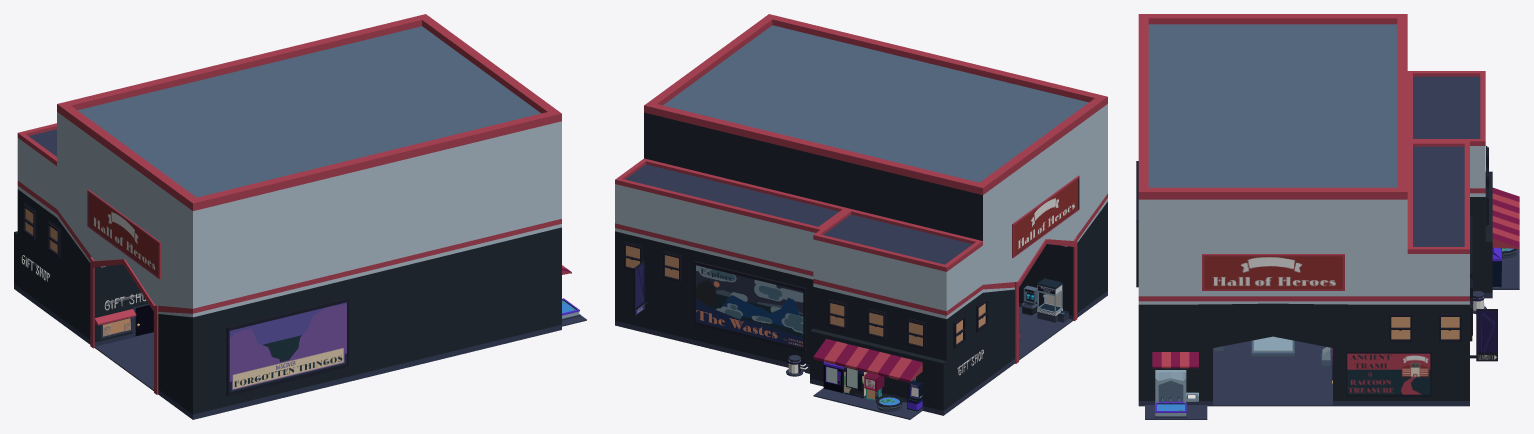
Rendered from HallofHeroes.fbx.
3 views of the same model, side by side, from view 1: azimuth 30°, elevation 25°; view 2: azimuth 150°, elevation 25°; view 3: azimuth 270°, elevation 25° (orthographic). The views are drawn at different scales.
Parts seen in each view (by area): view 1: Cube.831, Cube.007, Cube.1080, Cube.832; view 2: Cube.831, Cube.008, Cube.003, Cube.1080, Cube.009, Cube.1052; view 3: Cube.831, Cube.000, Cube.004, Cube.024, Cube.003, Cube.1052, Cube.025, Cube.011, Cube.007.
Boxes of the visible parts, x1,y1,x2,y2 form: Cube.831: [14, 14, 586, 419]; Cube.007: [226, 298, 349, 396]; Cube.1080: [87, 189, 160, 279]; Cube.832: [135, 305, 153, 336]; Cube.831: [615, 14, 1107, 419]; Cube.008: [693, 261, 806, 351]; Cube.003: [813, 339, 922, 382]; Cube.1080: [1012, 175, 1079, 257]; Cube.009: [1037, 278, 1068, 322]; Cube.1052: [633, 261, 647, 316]; Cube.831: [1138, 14, 1519, 419]; Cube.000: [1202, 254, 1344, 290]; Cube.004: [1346, 351, 1431, 396]; Cube.024: [1154, 370, 1198, 417]; Cube.003: [1492, 187, 1519, 249]; Cube.1052: [1470, 309, 1497, 361]; Cube.025: [1152, 352, 1198, 368]; Cube.011: [1492, 247, 1501, 287]; Cube.007: [1136, 161, 1138, 287].
Bounding box in the file's own units: 1951 × 1008 × 1628.
